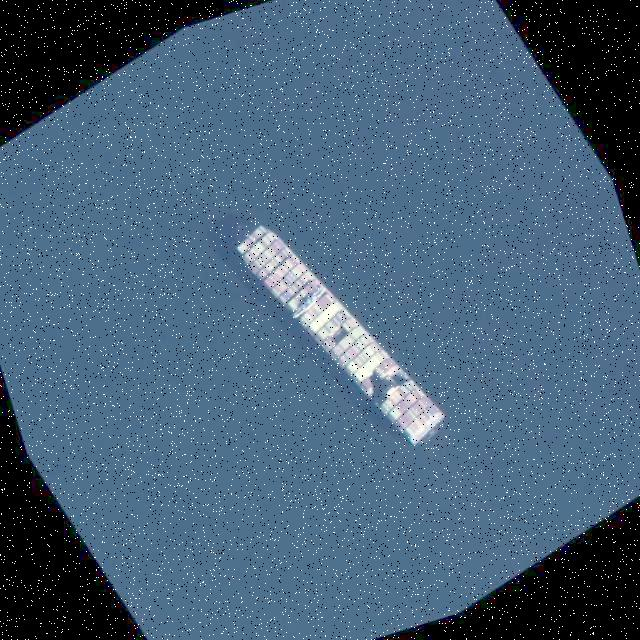ship: (231, 220, 448, 447)
